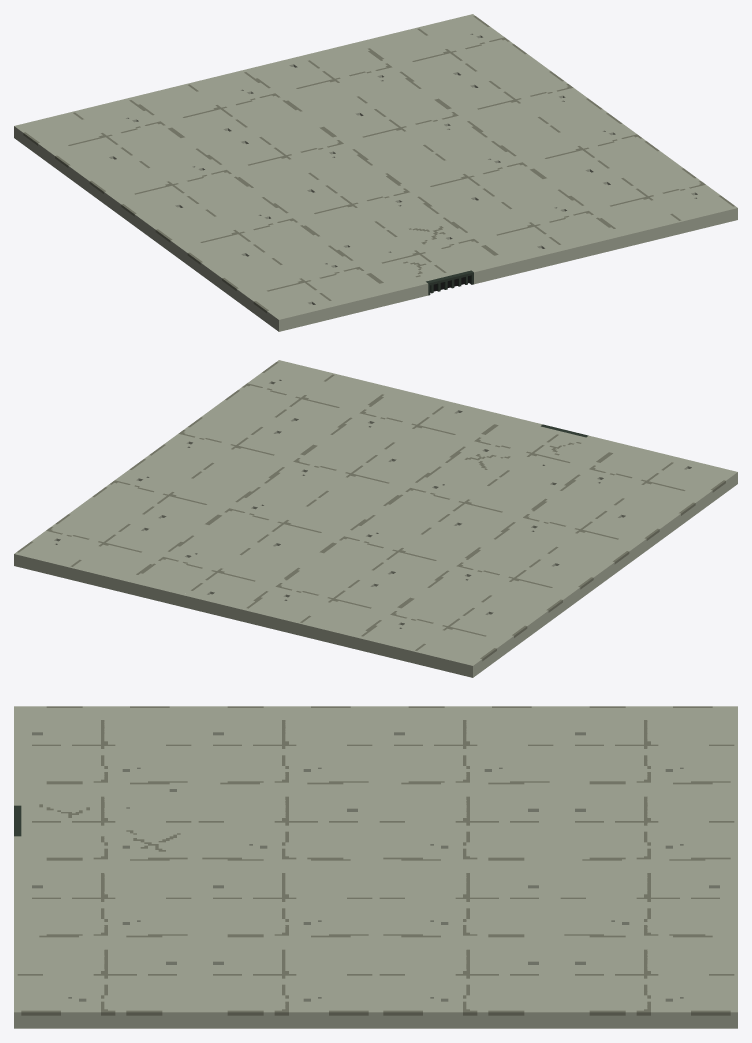
Rendered from nuke_concrete_tile.glb.
3 views of the same model, one above another, from view 1: azimuth 30°, elevation 25°; view 2: azimuth 150°, elevation 25°; view 3: azimuth 270°, elevation 25° (orthographic). The views are drawn at different scales.
Parts seen in each view (by area): view 1: nuke_concrete_tile; view 2: nuke_concrete_tile; view 3: nuke_concrete_tile.
Boxes of the visible parts, <box> form: nuke_concrete_tile: <box>14,14,737,331</box>; nuke_concrete_tile: <box>14,360,737,677</box>; nuke_concrete_tile: <box>14,706,737,1028</box>.
Size of the model in its own units: 10 by 0.25 by 10.
1 material, 1 textured.
